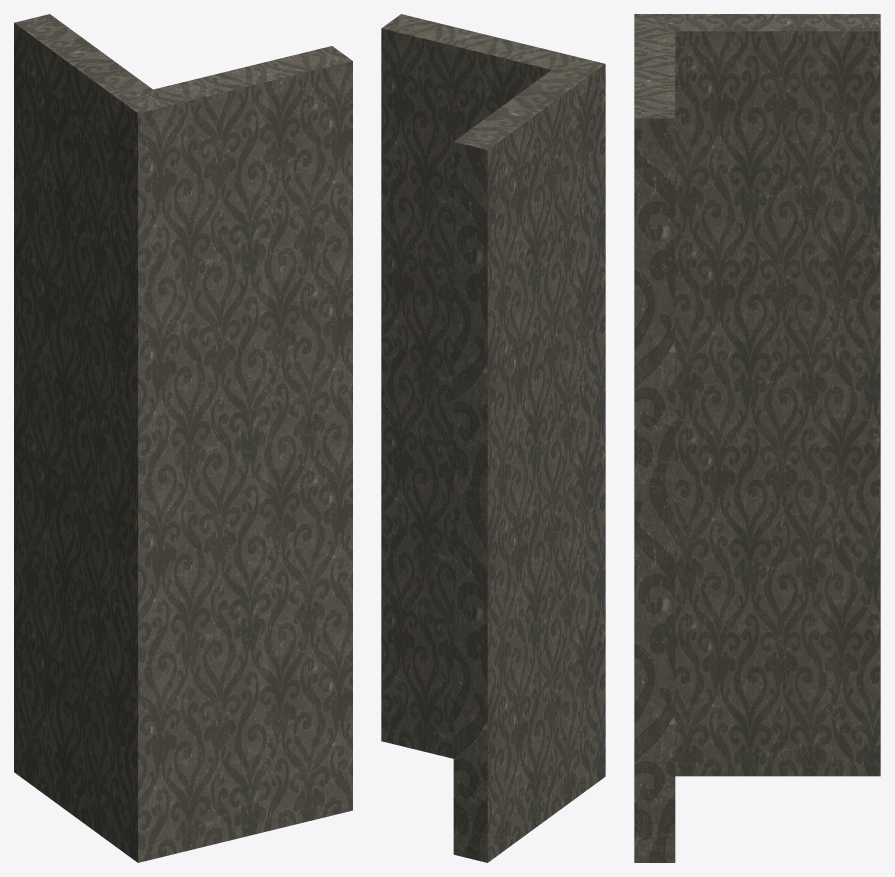
Rendered from SM_Wall_1m_Corn_01.fbx.
3 views of the same model, side by side, from view 1: azimuth 30°, elevation 25°; view 2: azimuth 150°, elevation 25°; view 3: azimuth 270°, elevation 25° (orthographic). The views are drawn at different scales.
Visible parts, largest first — view 1: SM_Wall_1m_Corn_01; view 2: SM_Wall_1m_Corn_01; view 3: SM_Wall_1m_Corn_01.
Part boxes in pixels (<box>): SM_Wall_1m_Corn_01: <box>14,14,352,862</box>; SM_Wall_1m_Corn_01: <box>381,14,605,862</box>; SM_Wall_1m_Corn_01: <box>634,14,880,862</box>.
Size of the model in its own units: 1.2 by 4 by 1.2.
